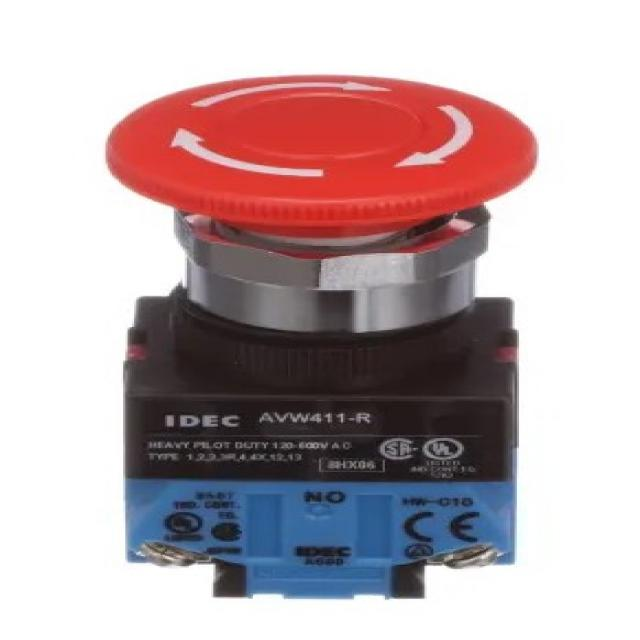safety switch: (102, 75, 535, 388)
